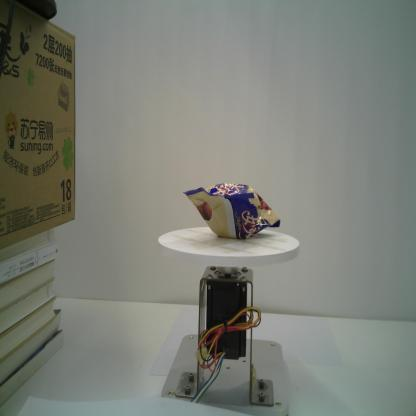Dessert: (183, 182, 281, 240)
